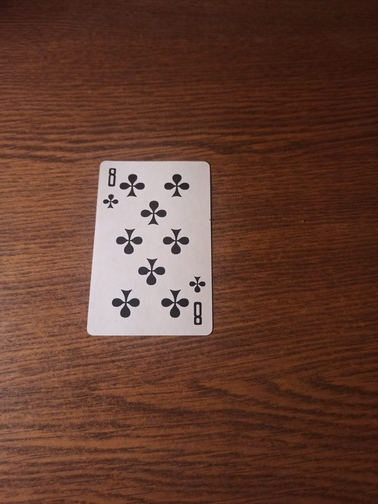eightclubs: (87, 157, 213, 337)
